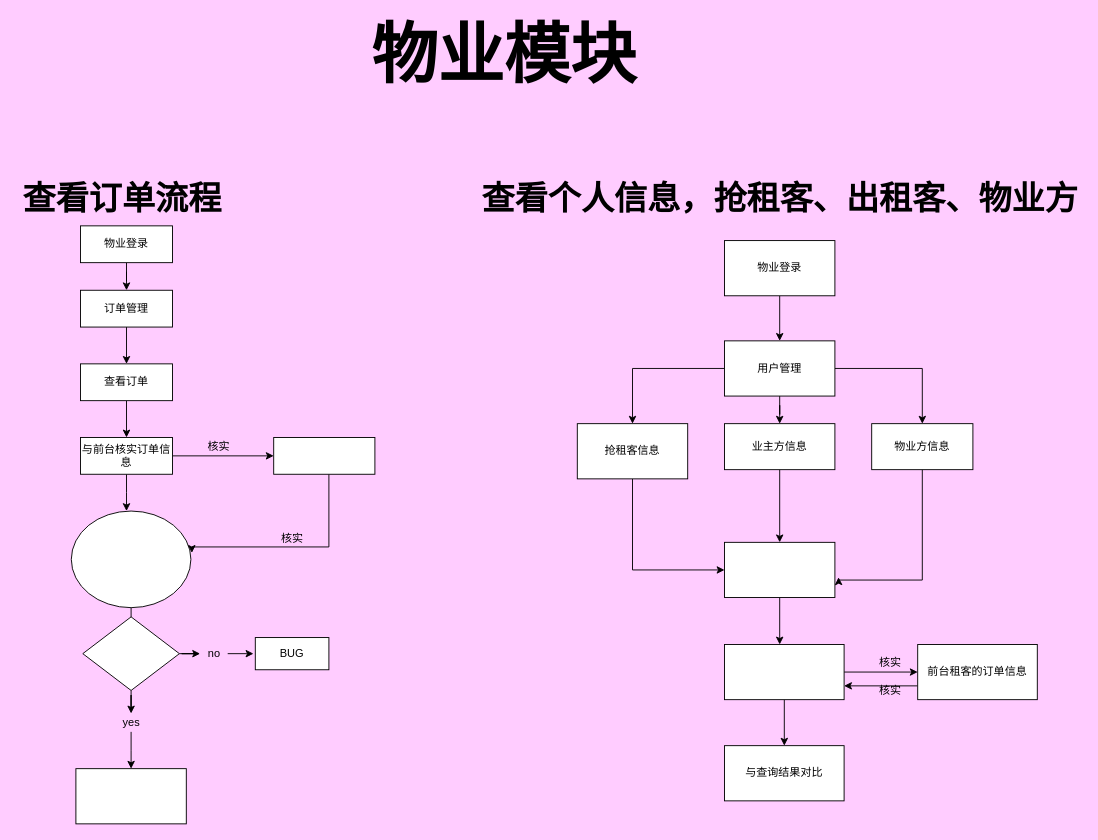
Image size: 1098x840. Some labels were removed from this diagram. The shapes that lost their labels are listed below. From the top down, each one's box as (x1, y1, x2, y2) in pixels, then its label:
(273, 437, 375, 474): 前台
(70, 510, 191, 608): 1.车位id 2.车辆id 3.开始时间 4.结束时间 5.订单价格 6.订单状态
(724, 541, 835, 598): 按条件查询 姓名/电话/时间/信用等级
(82, 616, 179, 690): 订单信息
(724, 644, 844, 700): 结果 （相应的条件是否符合 ）
(75, 768, 186, 824): 删除订单
